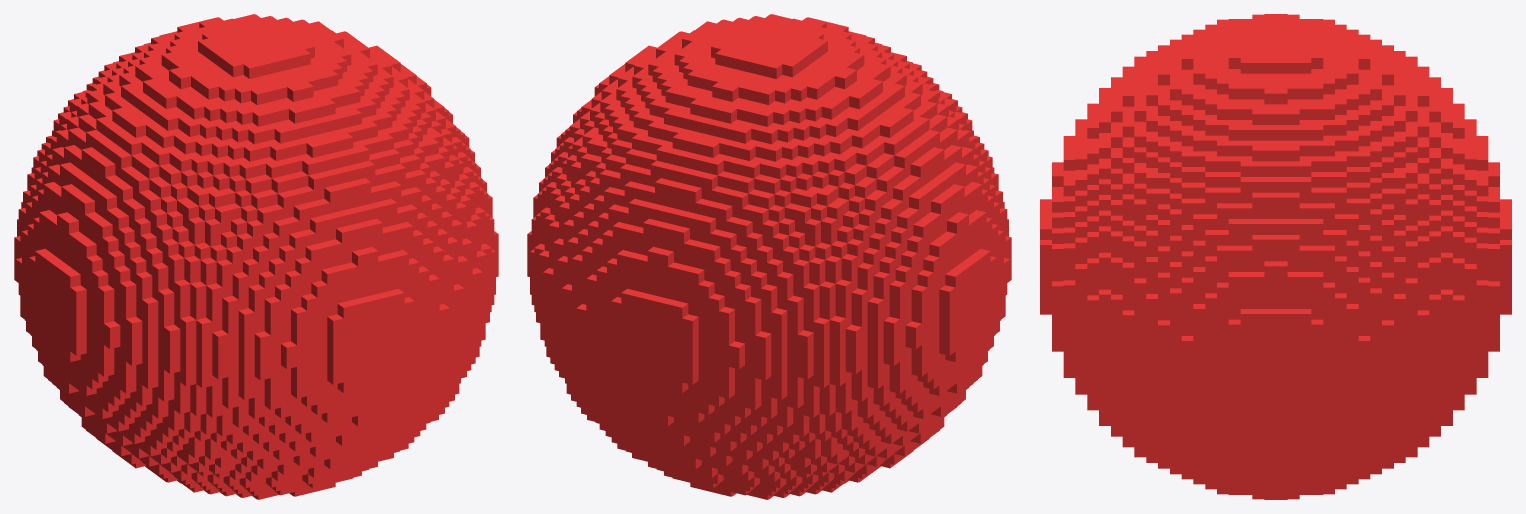
File: enemyBullet.obj
The picture shows the model from 3 angles, left to right: view 1: azimuth 30°, elevation 25°; view 2: azimuth 150°, elevation 25°; view 3: azimuth 270°, elevation 25°; orthographic projection.
Bounding box in the file's own units: 4 × 4 × 4.
1 material, 1 textured.
